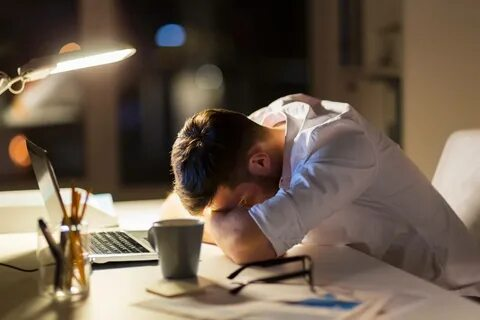sleep: (168, 93, 454, 268)
